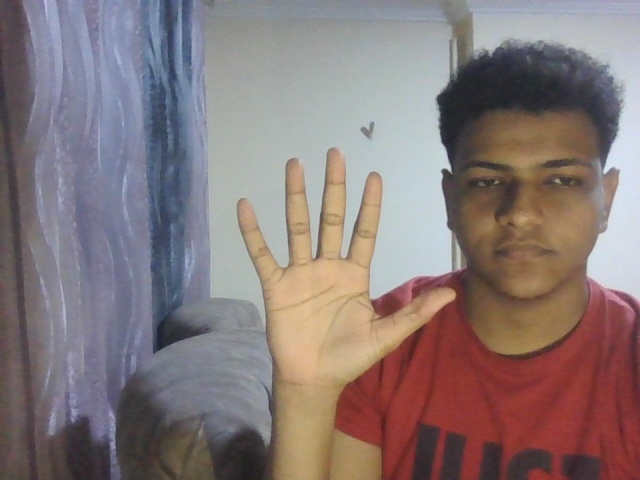Hello: (229, 144, 457, 404)
